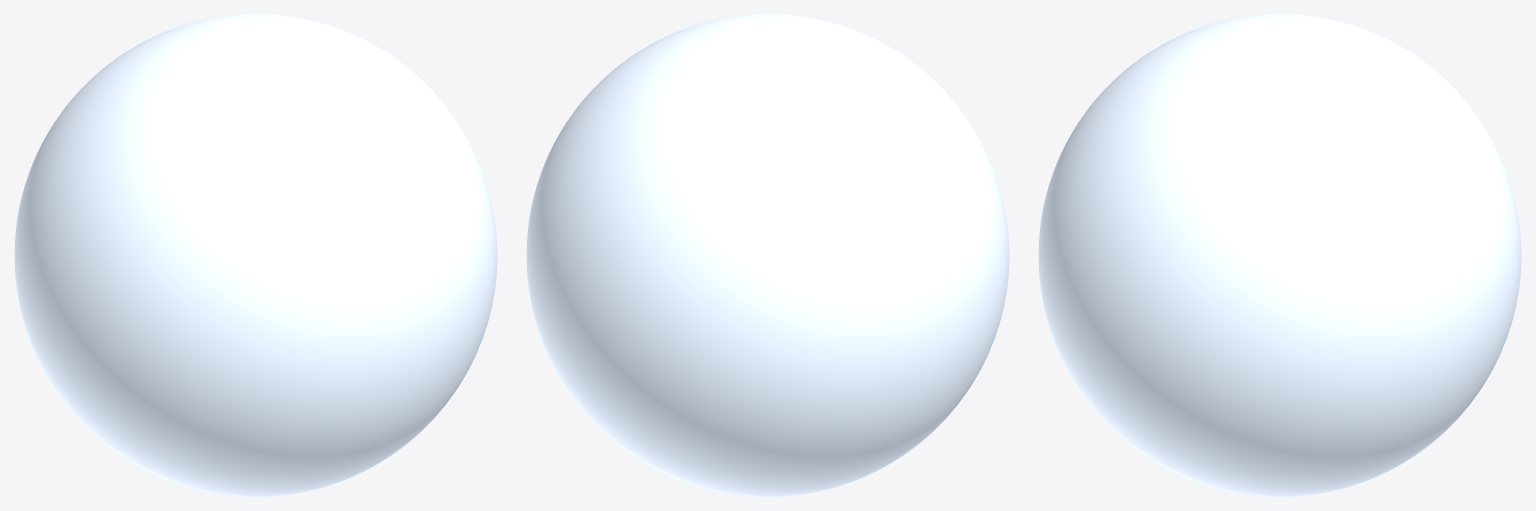
File: sirius-b-sphere.glb
The picture shows the model from 3 angles, left to right: view 1: azimuth 30°, elevation 25°; view 2: azimuth 150°, elevation 25°; view 3: azimuth 270°, elevation 25°; orthographic projection.
Visible parts, largest first — view 1: Sirius B; view 2: Sirius B; view 3: Sirius B.
Part boxes in pixels (x1=…): Sirius B: x1=14, y1=14, x2=497, y2=496; Sirius B: x1=526, y1=14, x2=1009, y2=496; Sirius B: x1=1038, y1=14, x2=1521, y2=496.
Size of the model in its own units: 11300 by 11300 by 11300.
